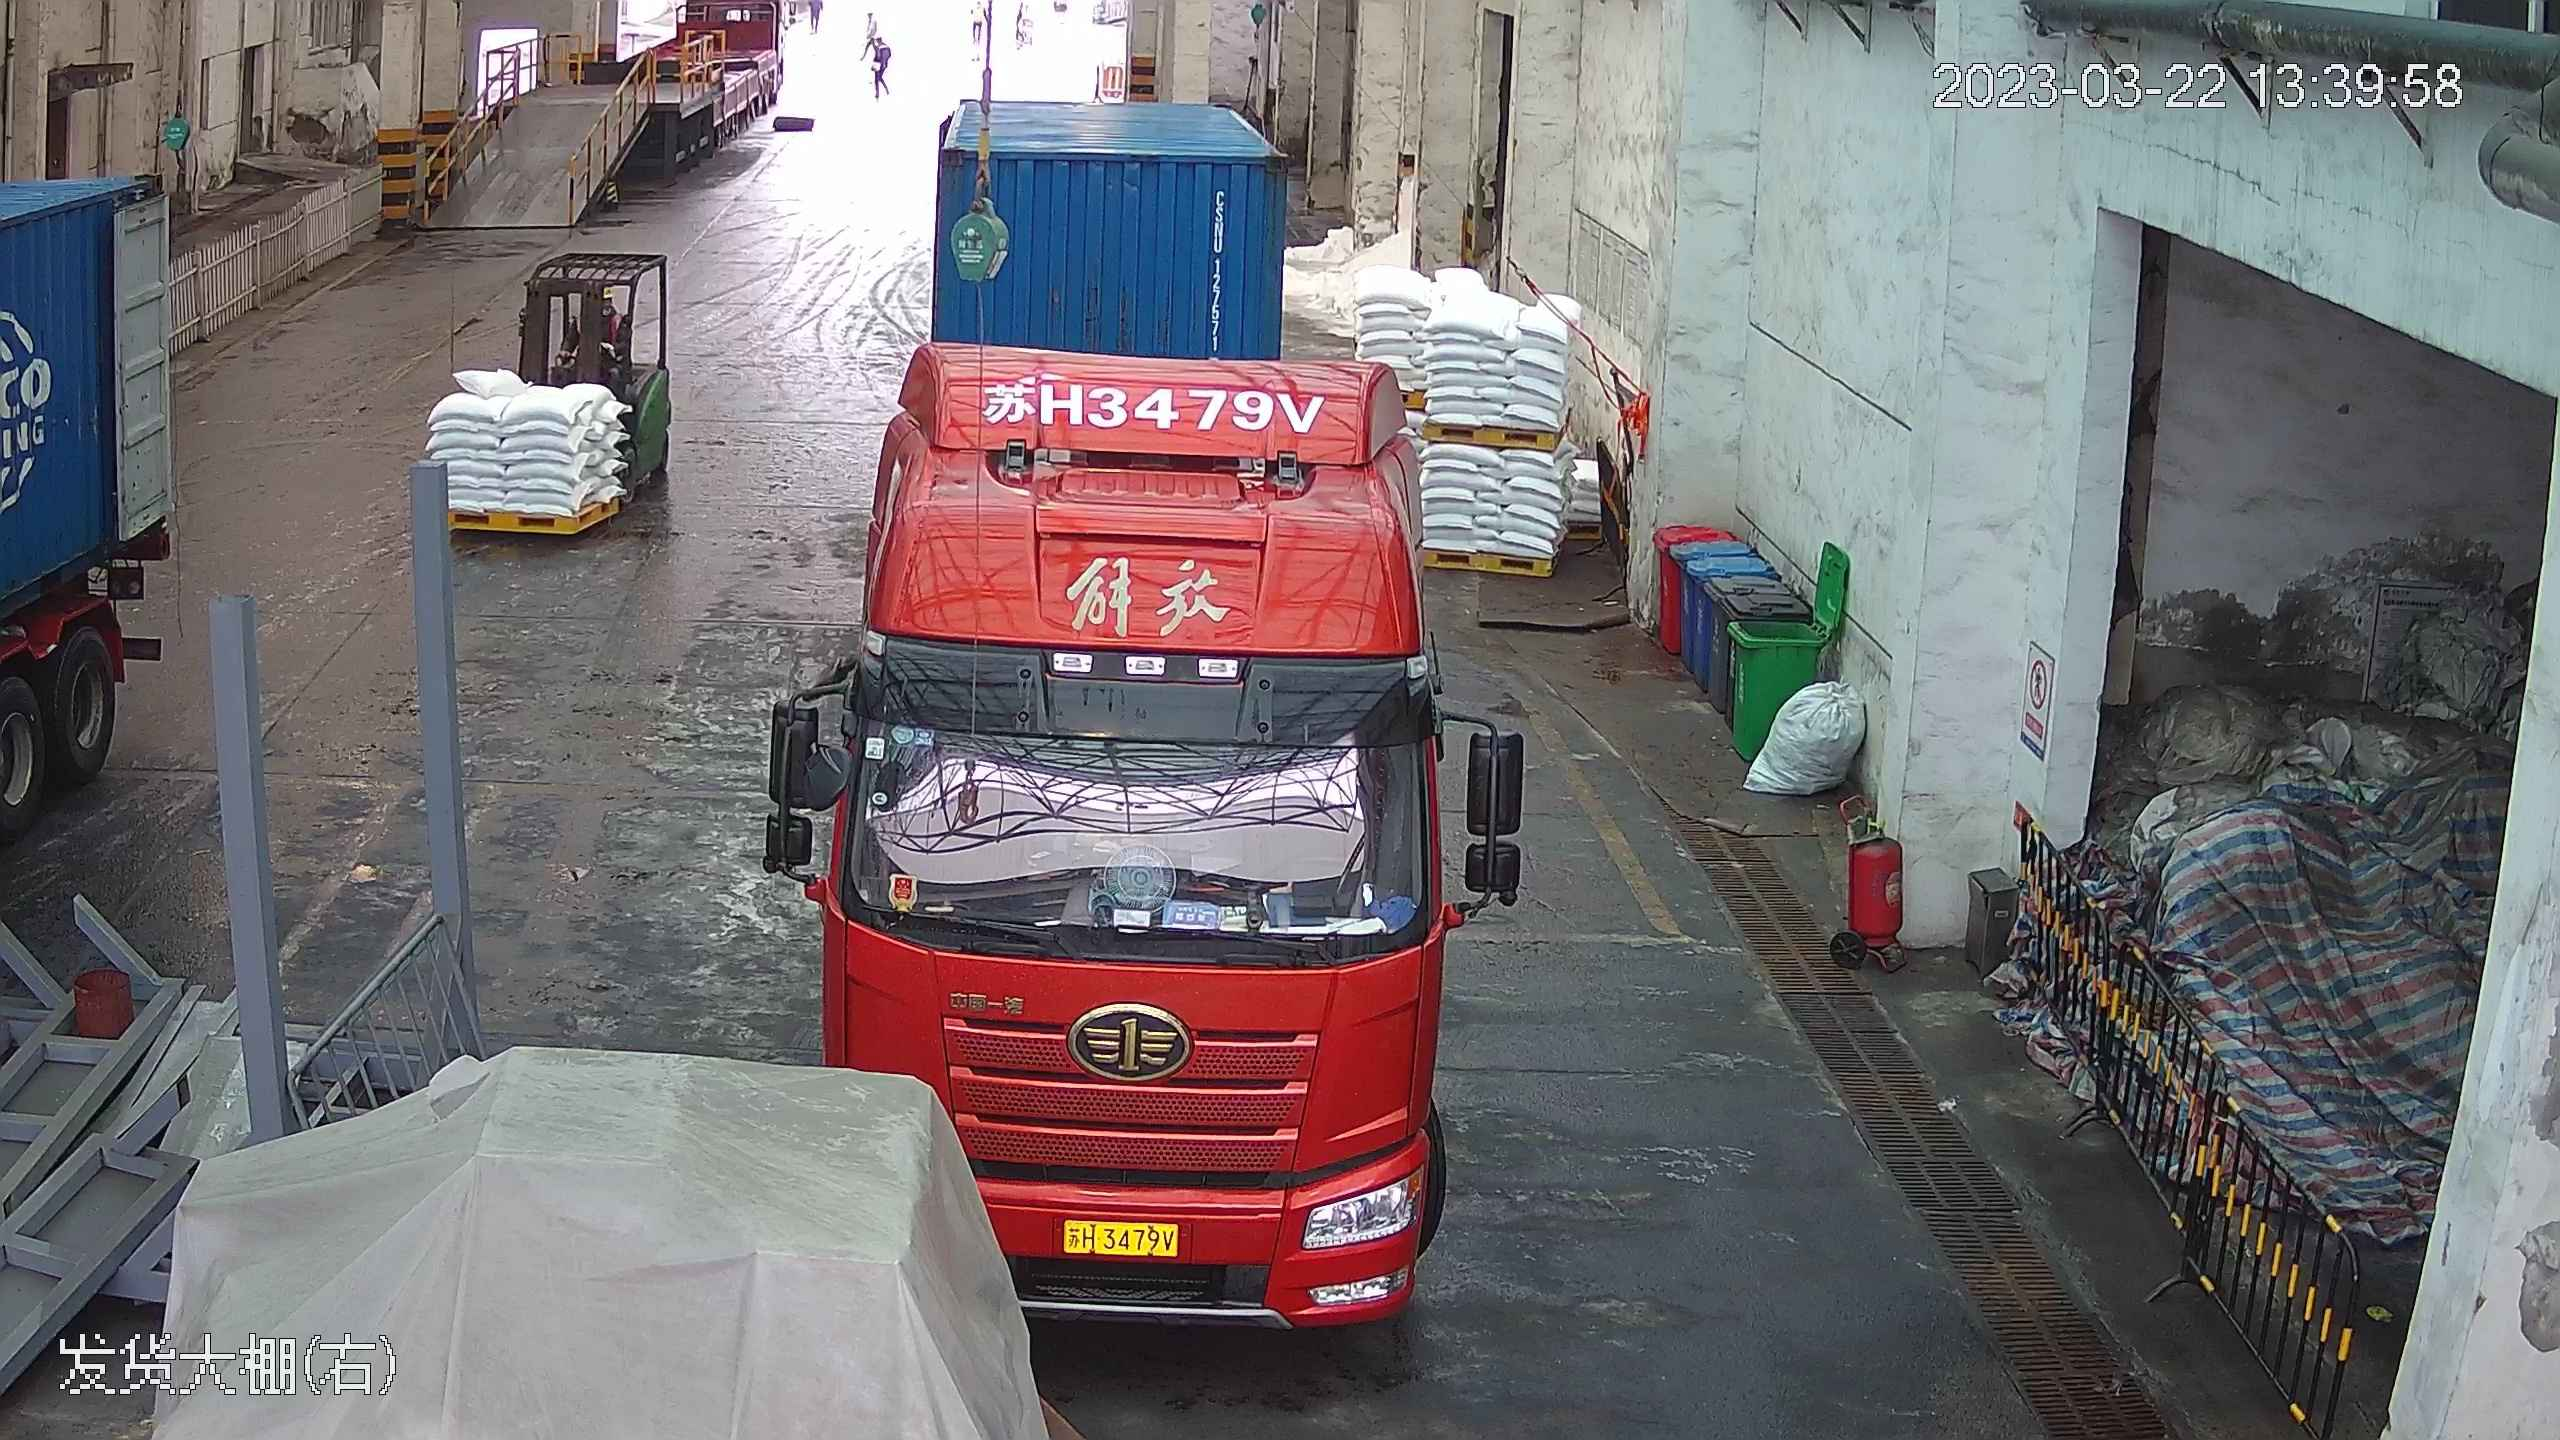people: (863, 21, 897, 102)
truck: (812, 33, 1465, 1312), (0, 60, 168, 1015)
